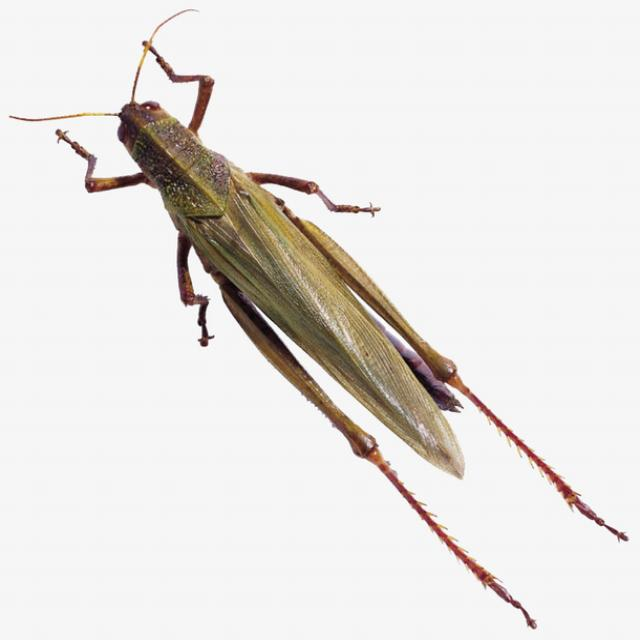ZhaMeng: (80, 62, 506, 510)
